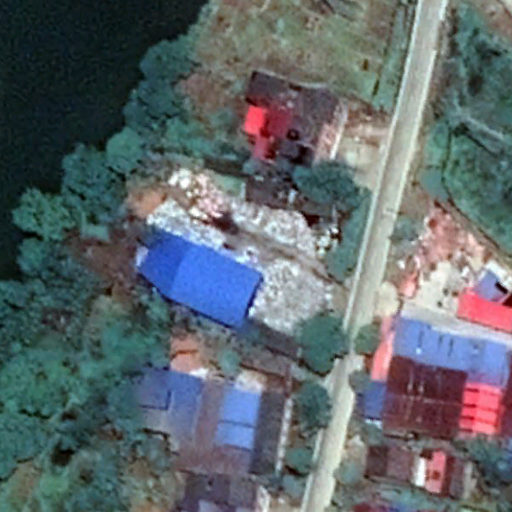msw: (157, 175, 328, 332)
